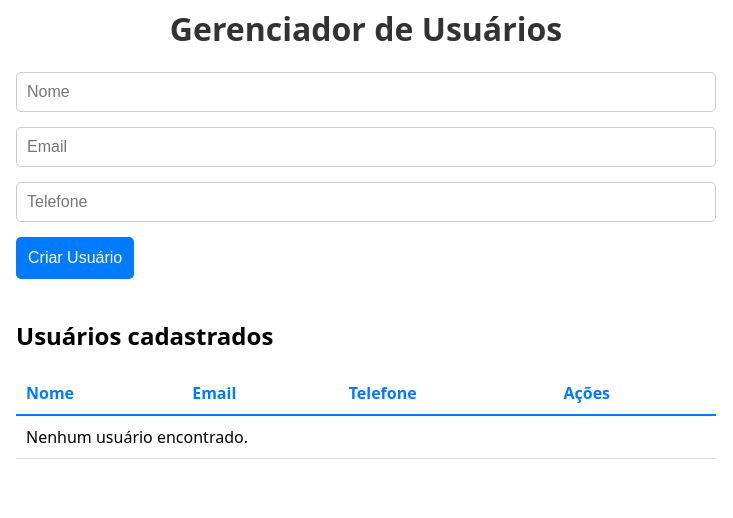
Test: Componente App › envia o formulário e mostra mensagem de sucesso
This screenshot has width=733, height=518.
Type "João" into the field with placeholder "Nome".
click(366, 92); type("João")  # box [16,72,716,112]
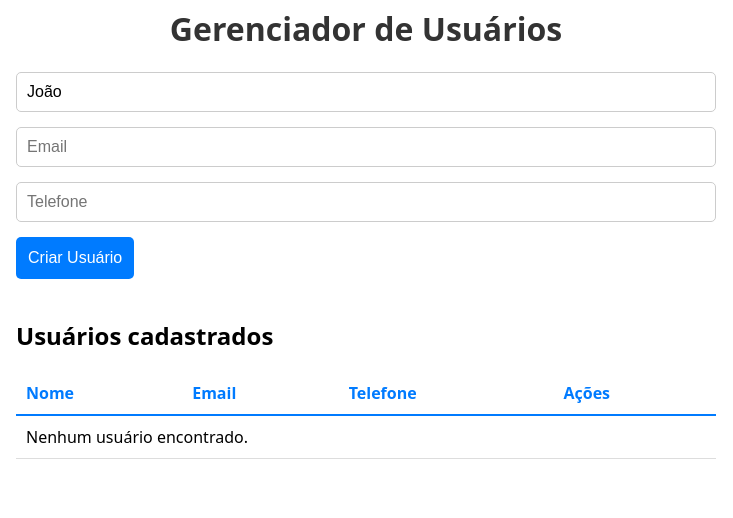
Type "joao@email.com" into the field with placeholder "Email".
click(366, 147); type("joao@email.com")  # box [16,127,716,167]
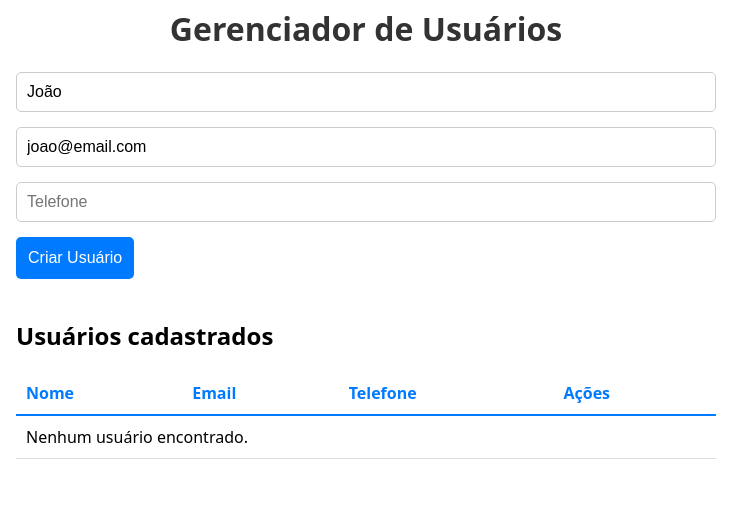
Type "12345" into the field with placeholder "Telefone".
click(366, 202); type("12345")  # box [16,182,716,222]
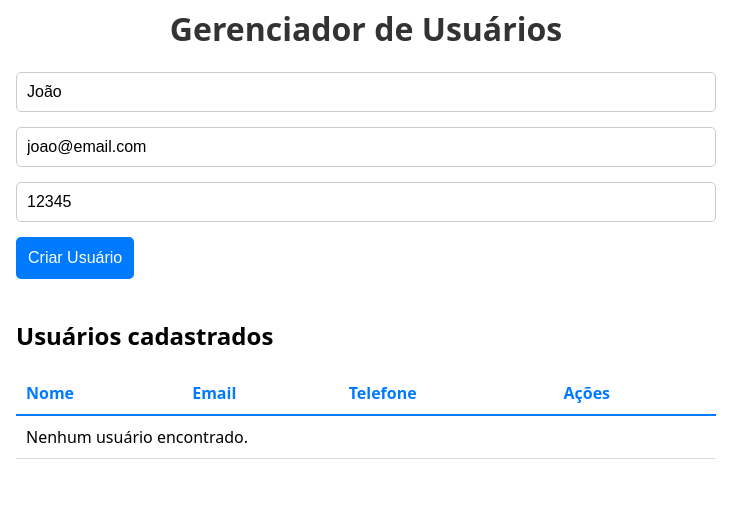
Click the button "Criar Usuário".
click(75, 258)  # box [16,237,134,279]
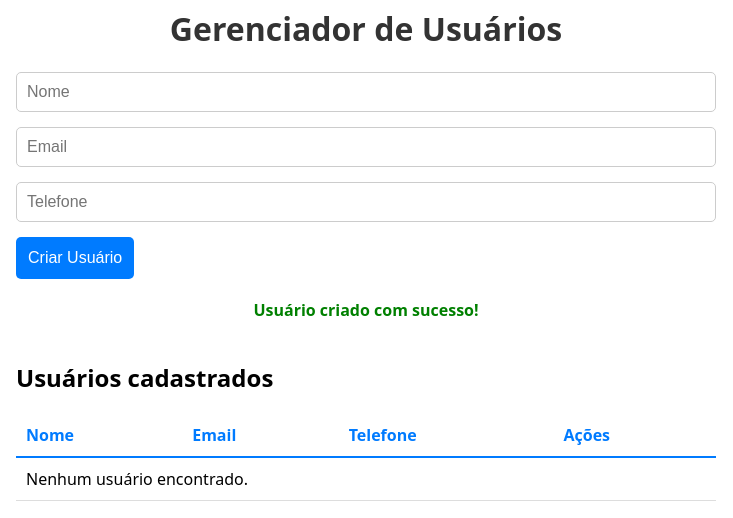
Check: the text "Usuário criado com sucesso!" is shown, box [253,299,479,321]
